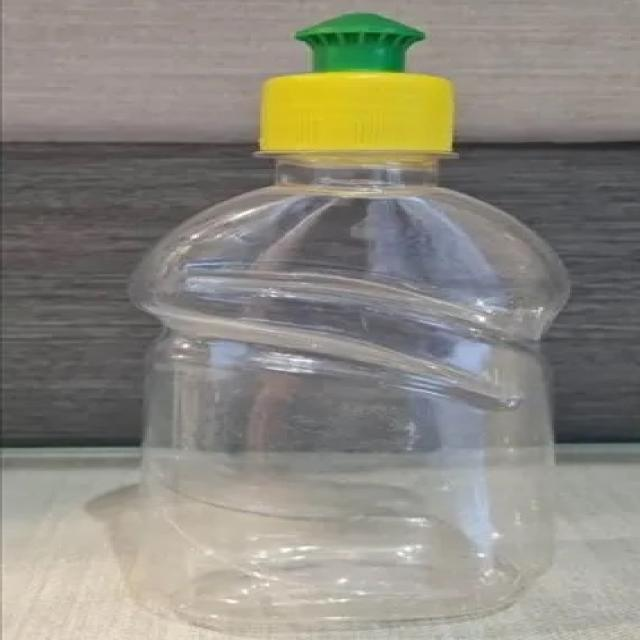plastic: (137, 15, 568, 629)
